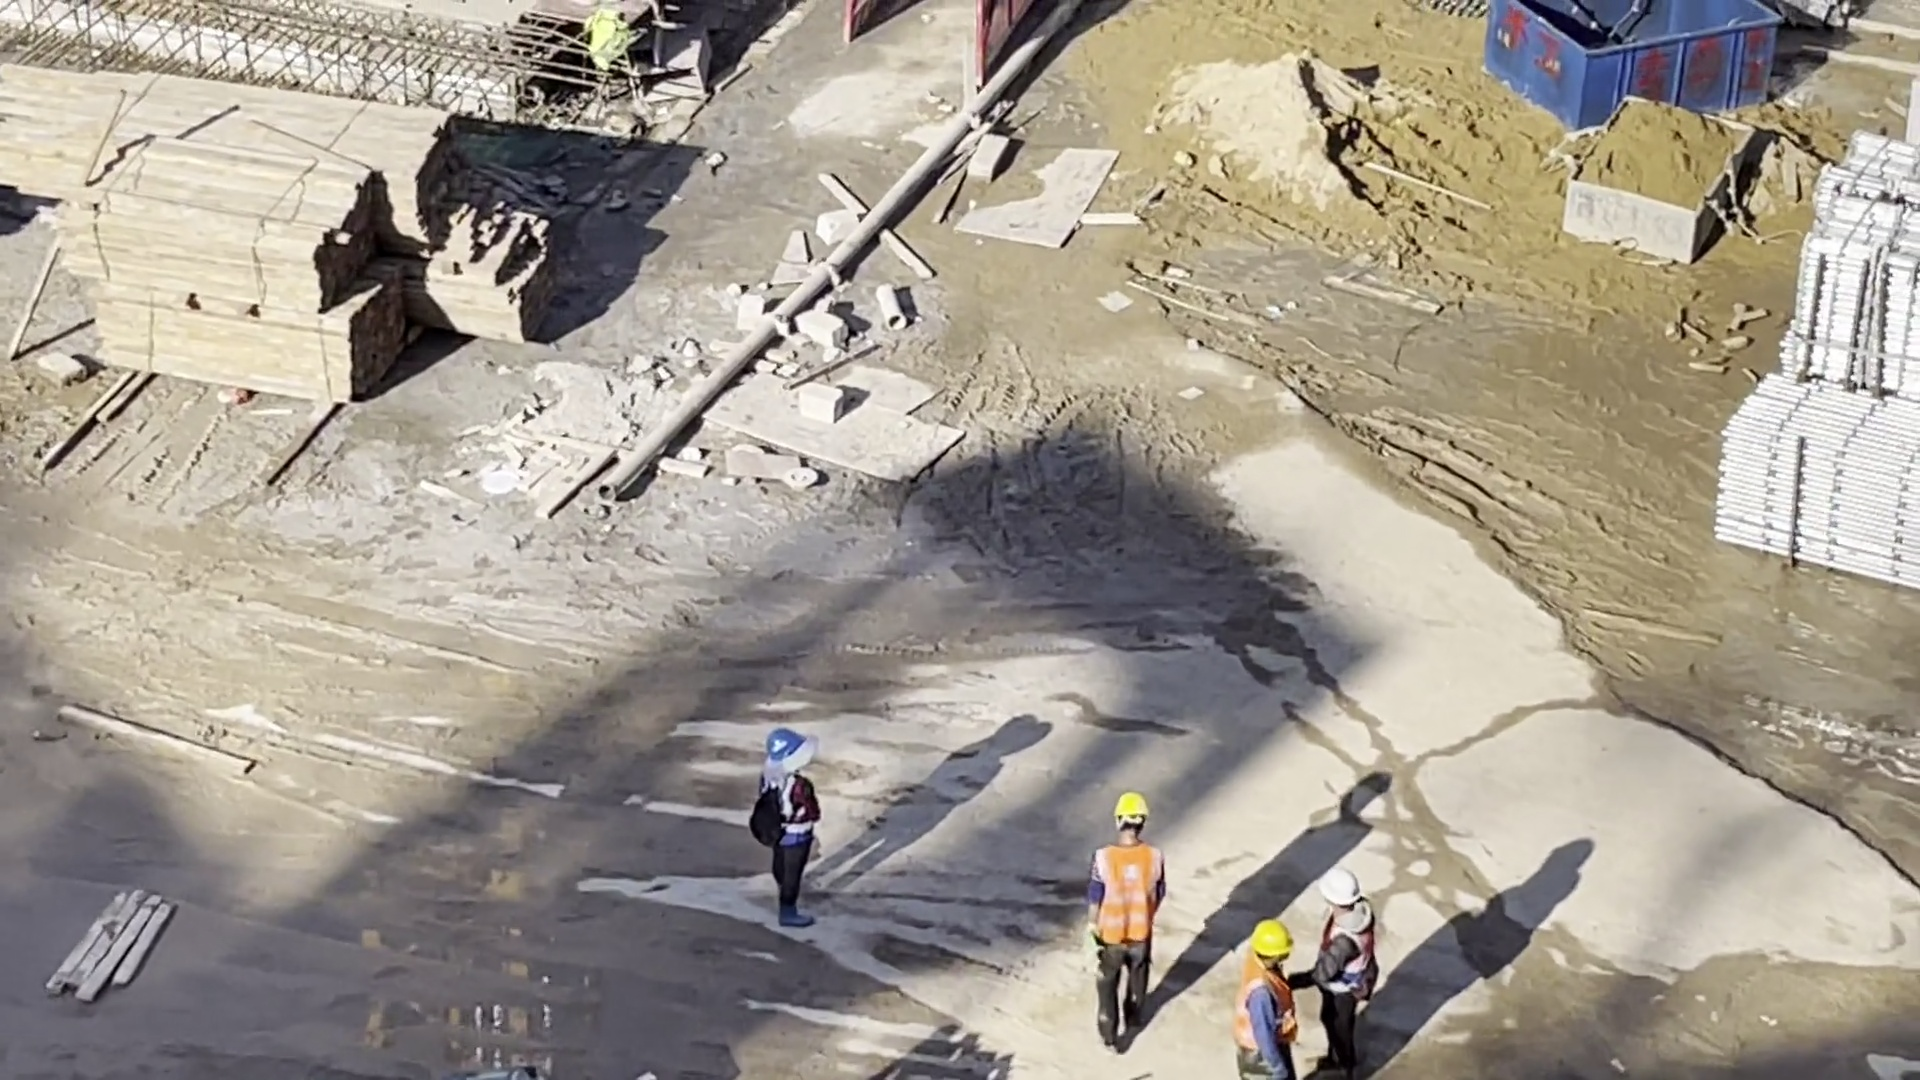helmet: (1254, 919, 1294, 961), (1317, 870, 1362, 904), (765, 727, 809, 761), (1115, 791, 1152, 822)
hopper: (1490, 1, 1782, 130), (1562, 95, 1754, 272)
person: (1090, 795, 1163, 1049), (1296, 870, 1372, 1080), (752, 729, 817, 935), (1236, 918, 1299, 1080)
scaffold: (1720, 376, 1919, 591), (1794, 141, 1920, 391)
vest: (1086, 842, 1165, 946), (1240, 965, 1296, 1054), (779, 772, 819, 850)
wood: (71, 139, 405, 393), (1, 58, 438, 240)
